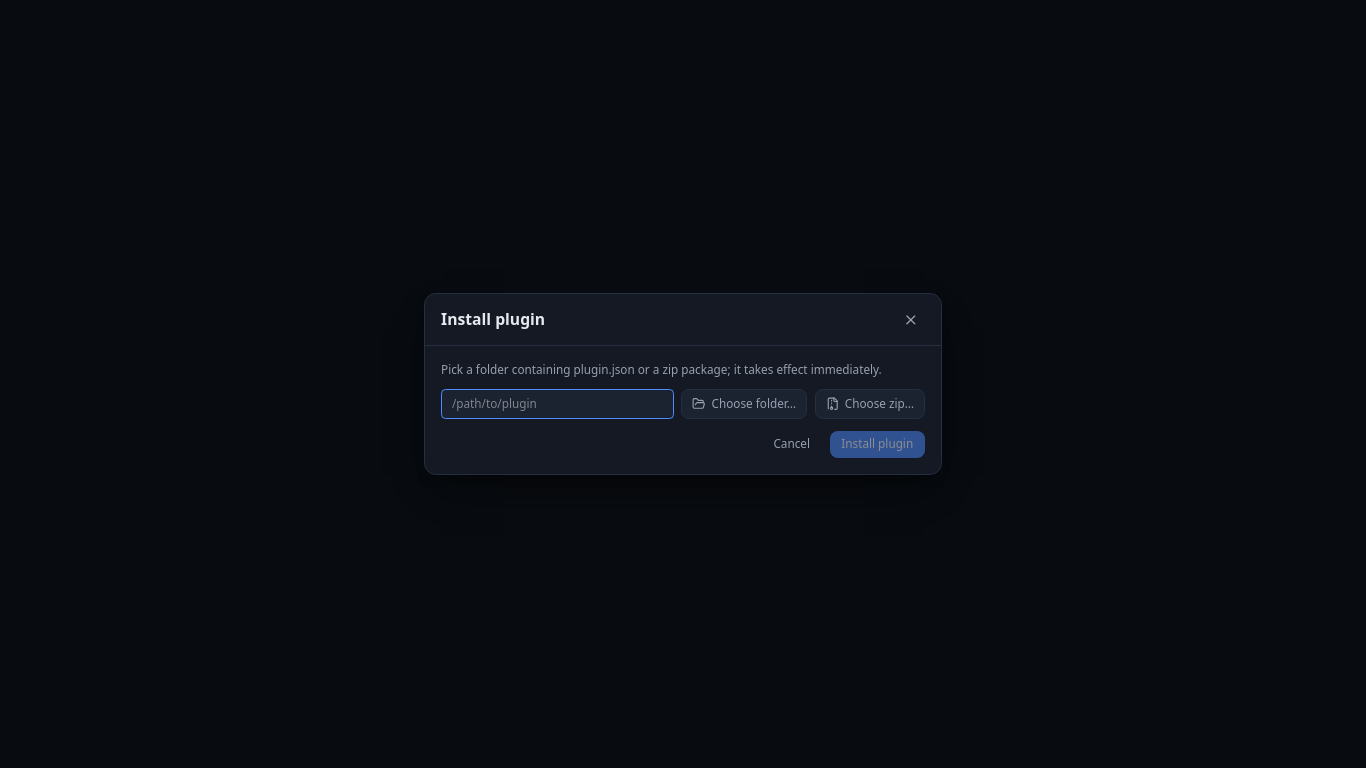
Test: PluginInstallDialog path inspection › takes the newest answer and ignores a slower older one
The width and height of the screenshot is (1366, 768).
Step 1. Type "old-path" into the field with placeholder "/path/to/plugin" → (557, 404), box [441, 389, 674, 419]
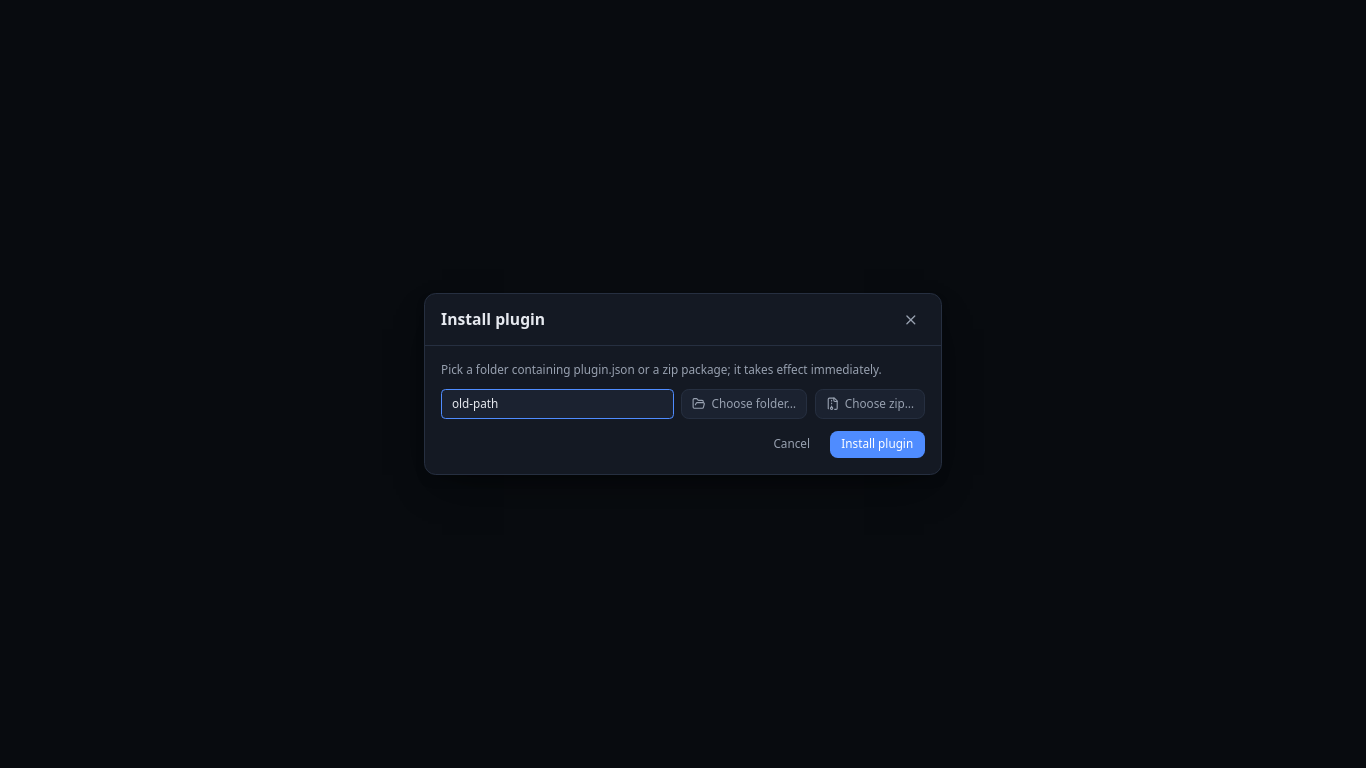
Step 2. Replace the text in the field with placeholder "/path/to/plugin" with "new-path" → (557, 404), box [441, 389, 674, 419]
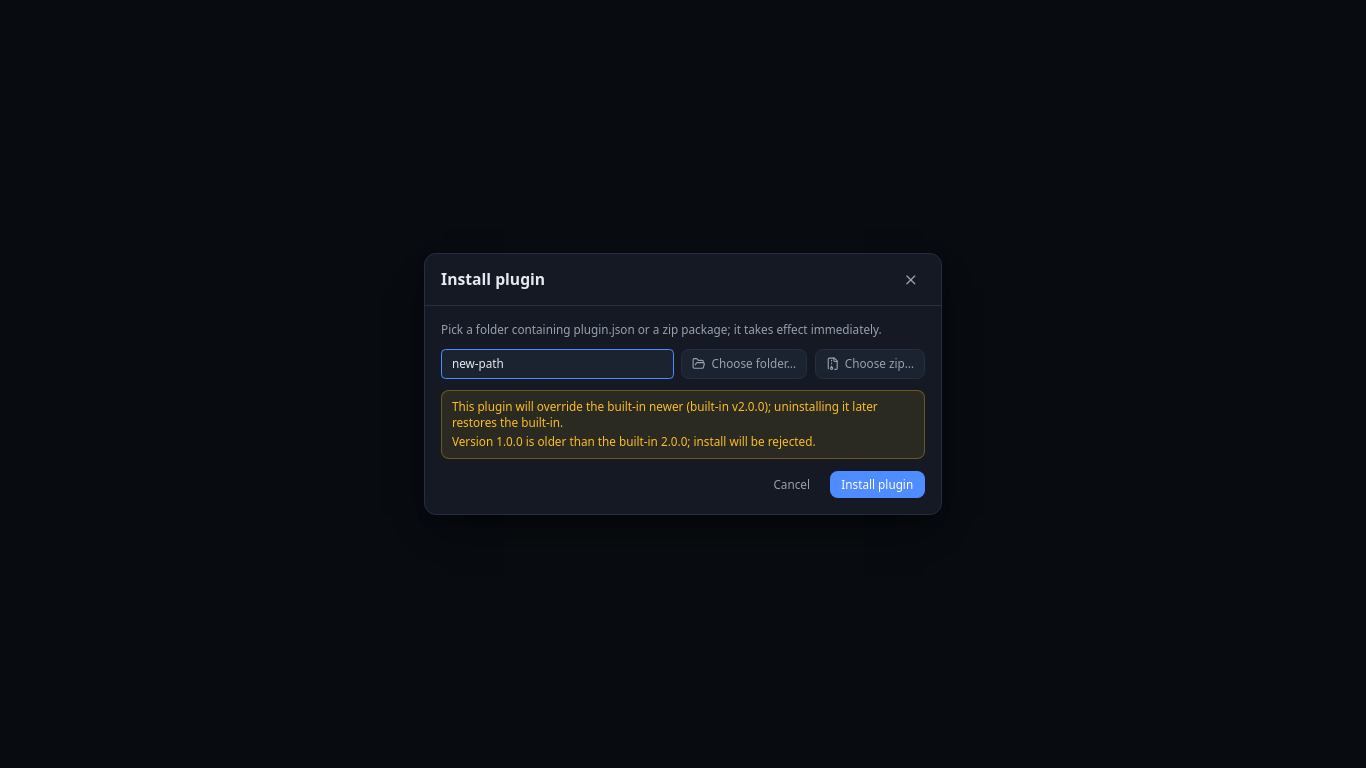
Check: the text "v2.0.0" is shown, box [452, 398, 878, 430]
